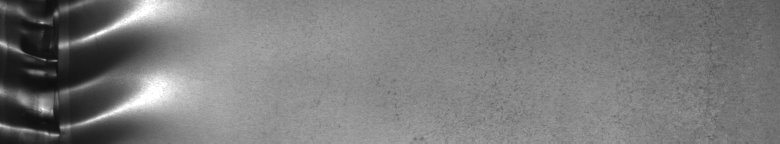ke: (4, 4, 131, 136)
